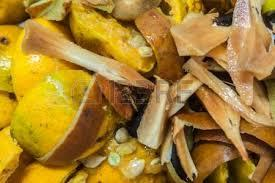Organic: (2, 0, 275, 183)
